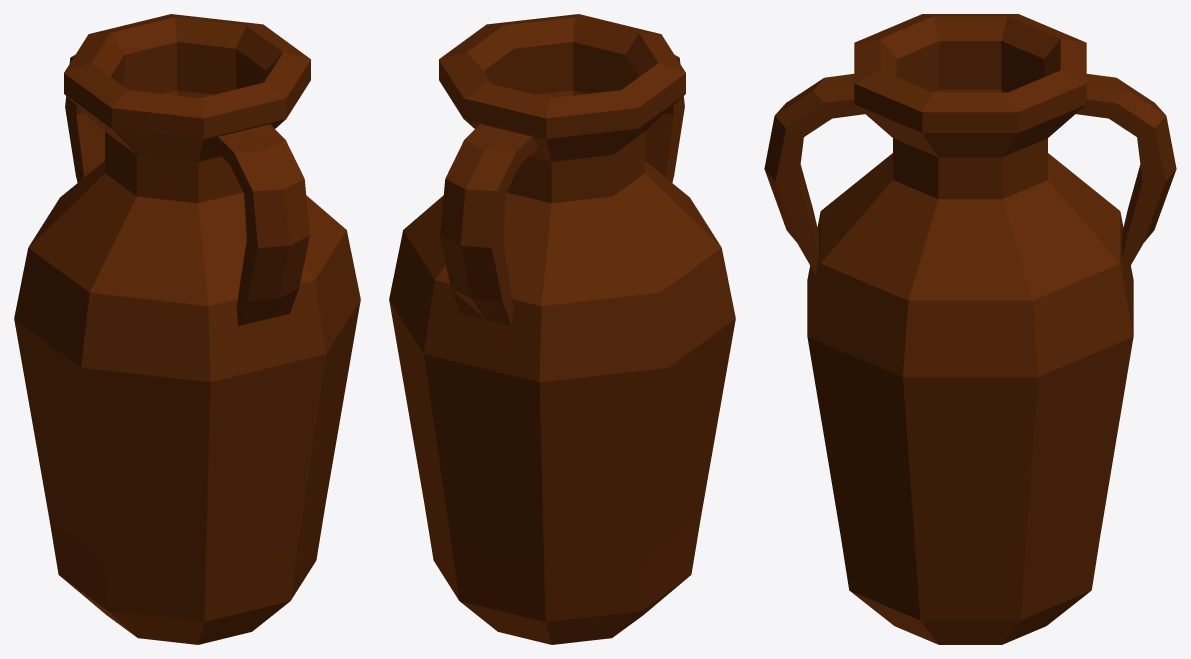
The model's file is SM_SM_Pottery_02.fbx.
The picture shows the model from 3 angles, left to right: view 1: azimuth 30°, elevation 25°; view 2: azimuth 150°, elevation 25°; view 3: azimuth 270°, elevation 25°; orthographic projection.
Visible parts, largest first — view 1: SM_Pottery_02; view 2: SM_Pottery_02; view 3: SM_Pottery_02.
Part boxes in pixels (left/top/right/bottom): SM_Pottery_02: left=14, top=14, right=360, bottom=644; SM_Pottery_02: left=389, top=14, right=735, bottom=644; SM_Pottery_02: left=764, top=14, right=1176, bottom=644.
Size of the model in its own units: 59.39 by 112 by 75.05.
